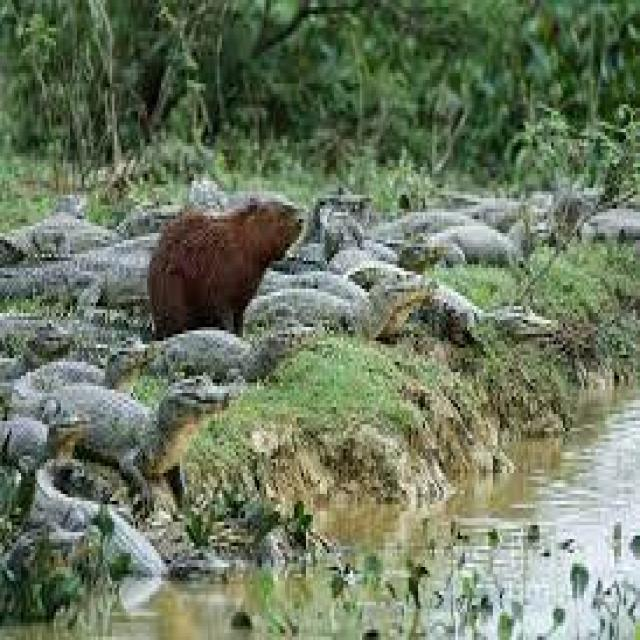capy: (145, 191, 307, 341)
